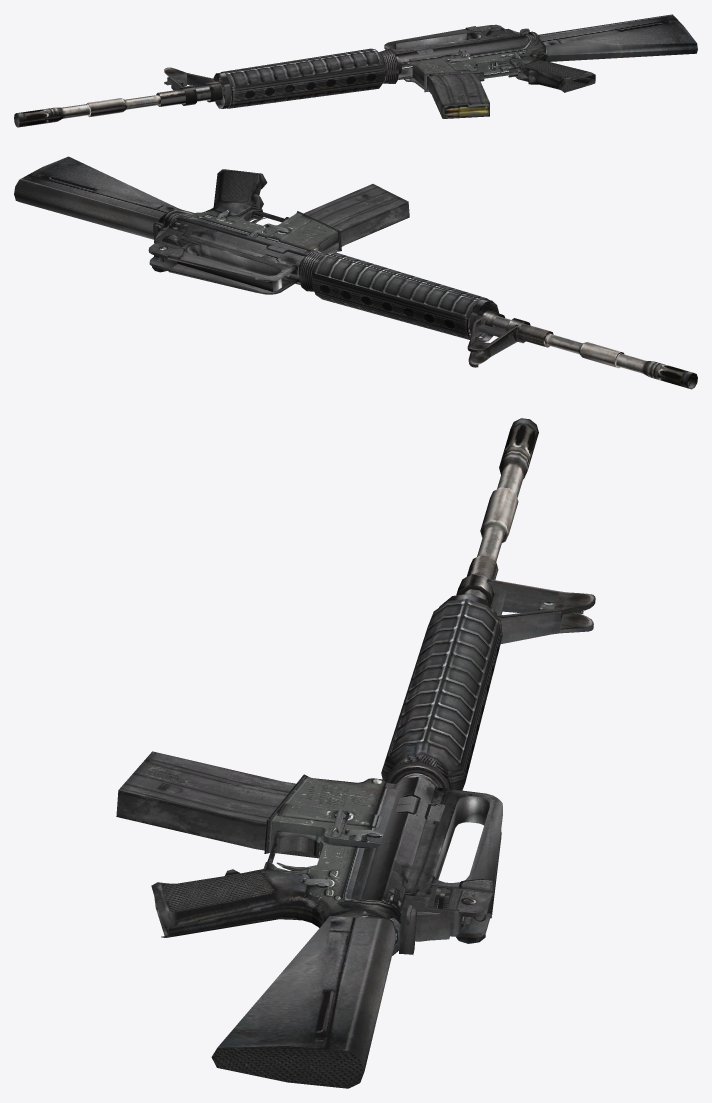
3 renders of one model, top to bottom at view 1: azimuth 30°, elevation 25°; view 2: azimuth 150°, elevation 25°; view 3: azimuth 270°, elevation 25°, orthographic. The views are drawn at different scales.
Visible parts, largest first — view 1: _m16_1st; view 2: _m16_1st; view 3: _m16_1st.
Boxes of the visible parts, x1=… form: _m16_1st: x1=14, y1=14, x2=697, y2=127; _m16_1st: x1=14, y1=156, x2=697, y2=389; _m16_1st: x1=116, y1=418, x2=595, y2=1088.
Bounding box in the file's own units: 1.13 × 0.0801 × 0.3822.
Materials: 1 (1 with a texture image).
